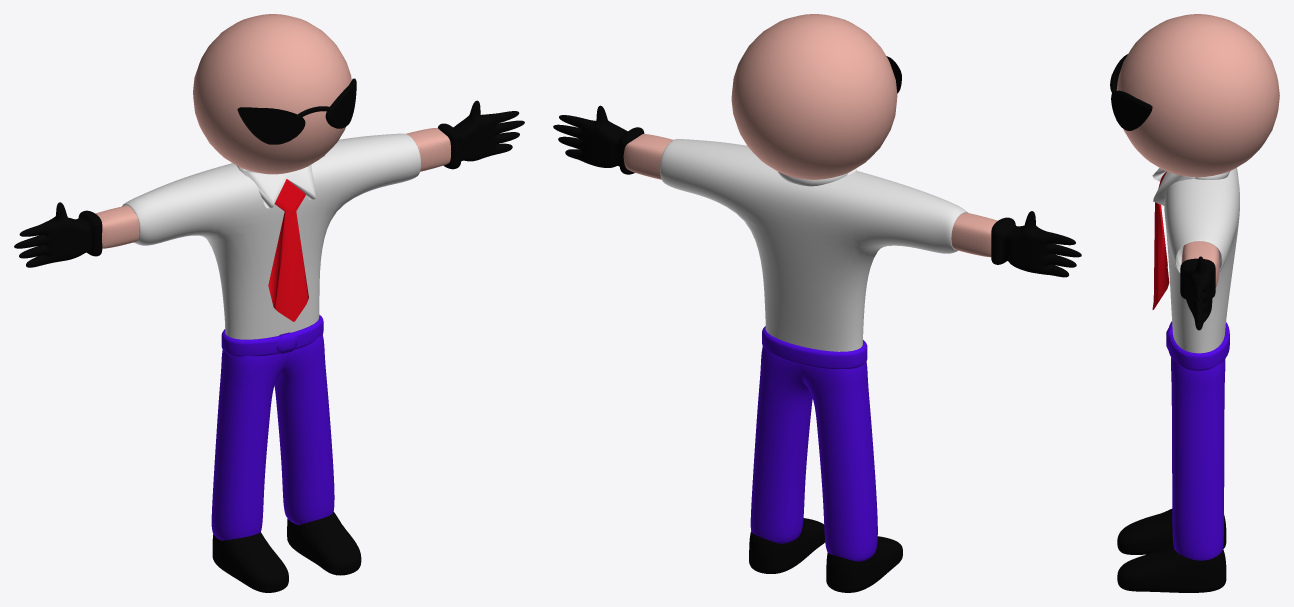
The model's file is Player.fbx.
The picture shows the model from 3 angles, left to right: view 1: azimuth 30°, elevation 25°; view 2: azimuth 150°, elevation 25°; view 3: azimuth 270°, elevation 25°; orthographic projection. The views are drawn at different scales.
Parts seen in each view (by area): view 1: Cube, Cube.005, Sphere, Cube.010, Cube.006, Cube.011, Cube.007, Cube.003, Circle.002, NurbsCircle.001, Cube.001, Cube.009 (+2 smaller); view 2: Cube, Sphere, Cube.005, Cube.010, Cube.011, Cube.006, Cube.007, NurbsCircle.001, Cube.009, Cube.008; view 3: Sphere, Cube.005, Cube, Cube.007, Cube.006, Cube.011, Circle.002, NurbsCircle.001, Cube.003, Cube.008, Cube.001.
Boxes of the visible parts, x1,y1,x2,y2 form: Cube: (122, 133, 421, 339); Cube.005: (211, 335, 334, 540); Sphere: (193, 14, 351, 174); Cube.010: (14, 202, 102, 267); Cube.006: (212, 532, 288, 592); Cube.011: (438, 100, 524, 169); Cube.007: (287, 512, 361, 575); Cube.003: (268, 211, 308, 321); Circle.002: (237, 78, 356, 144); NurbsCircle.001: (221, 315, 323, 356); Cube.001: (238, 165, 316, 208); Cube.009: (95, 205, 139, 248); Cube: (660, 139, 968, 351); Sphere: (731, 14, 897, 179); Cube.005: (750, 346, 877, 561); Cube.010: (991, 211, 1081, 277); Cube.011: (553, 105, 644, 174); Cube.006: (826, 536, 902, 592); Cube.007: (749, 518, 825, 573); NurbsCircle.001: (762, 326, 867, 369); Cube.009: (951, 213, 997, 257); Cube.008: (623, 134, 673, 179); Sphere: (1116, 14, 1279, 177); Cube.005: (1171, 357, 1225, 560); Cube: (1164, 167, 1239, 353); Cube.007: (1117, 545, 1226, 592); Cube.006: (1117, 509, 1226, 554); Cube.011: (1180, 256, 1215, 330); Circle.002: (1110, 54, 1152, 130); NurbsCircle.001: (1168, 321, 1229, 370); Cube.003: (1152, 202, 1169, 309); Cube.008: (1181, 241, 1219, 287); Cube.001: (1152, 168, 1195, 205).
Size of the model in its own units: 734 by 736 by 207.
